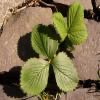Strawberry leaf: (19, 58, 49, 96), (52, 50, 79, 91), (31, 22, 59, 58), (68, 1, 84, 33), (68, 21, 88, 46), (51, 10, 69, 37)
